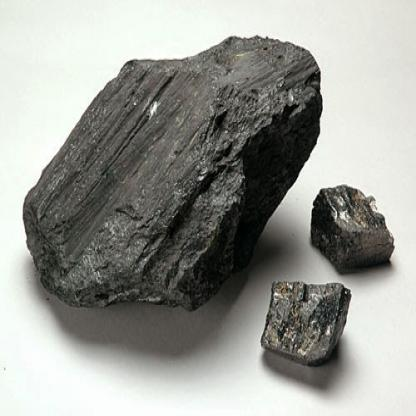Sedimentary_coal: (19, 26, 325, 320), (260, 265, 351, 389), (304, 176, 404, 274)
